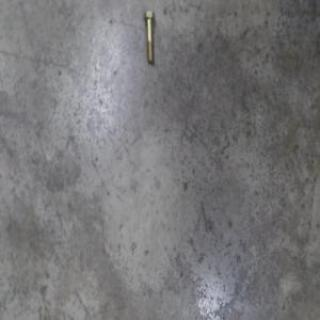Bolttrack_idkeyframe: (144, 17, 158, 68)
